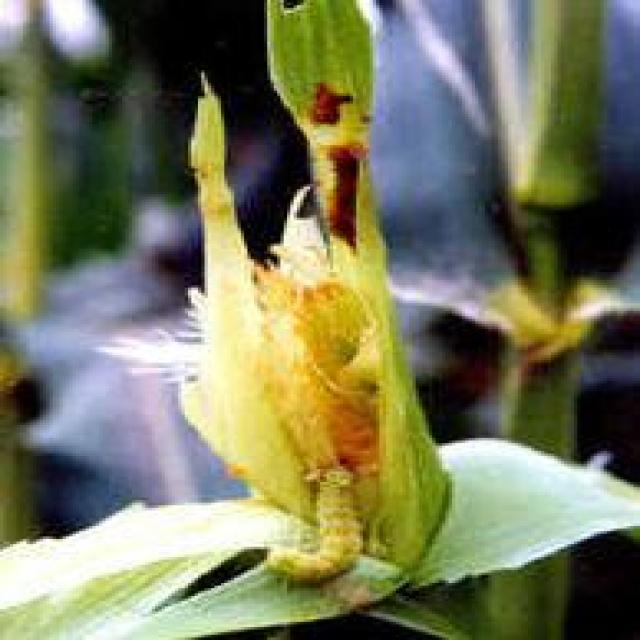armyworm: (265, 461, 366, 582)
